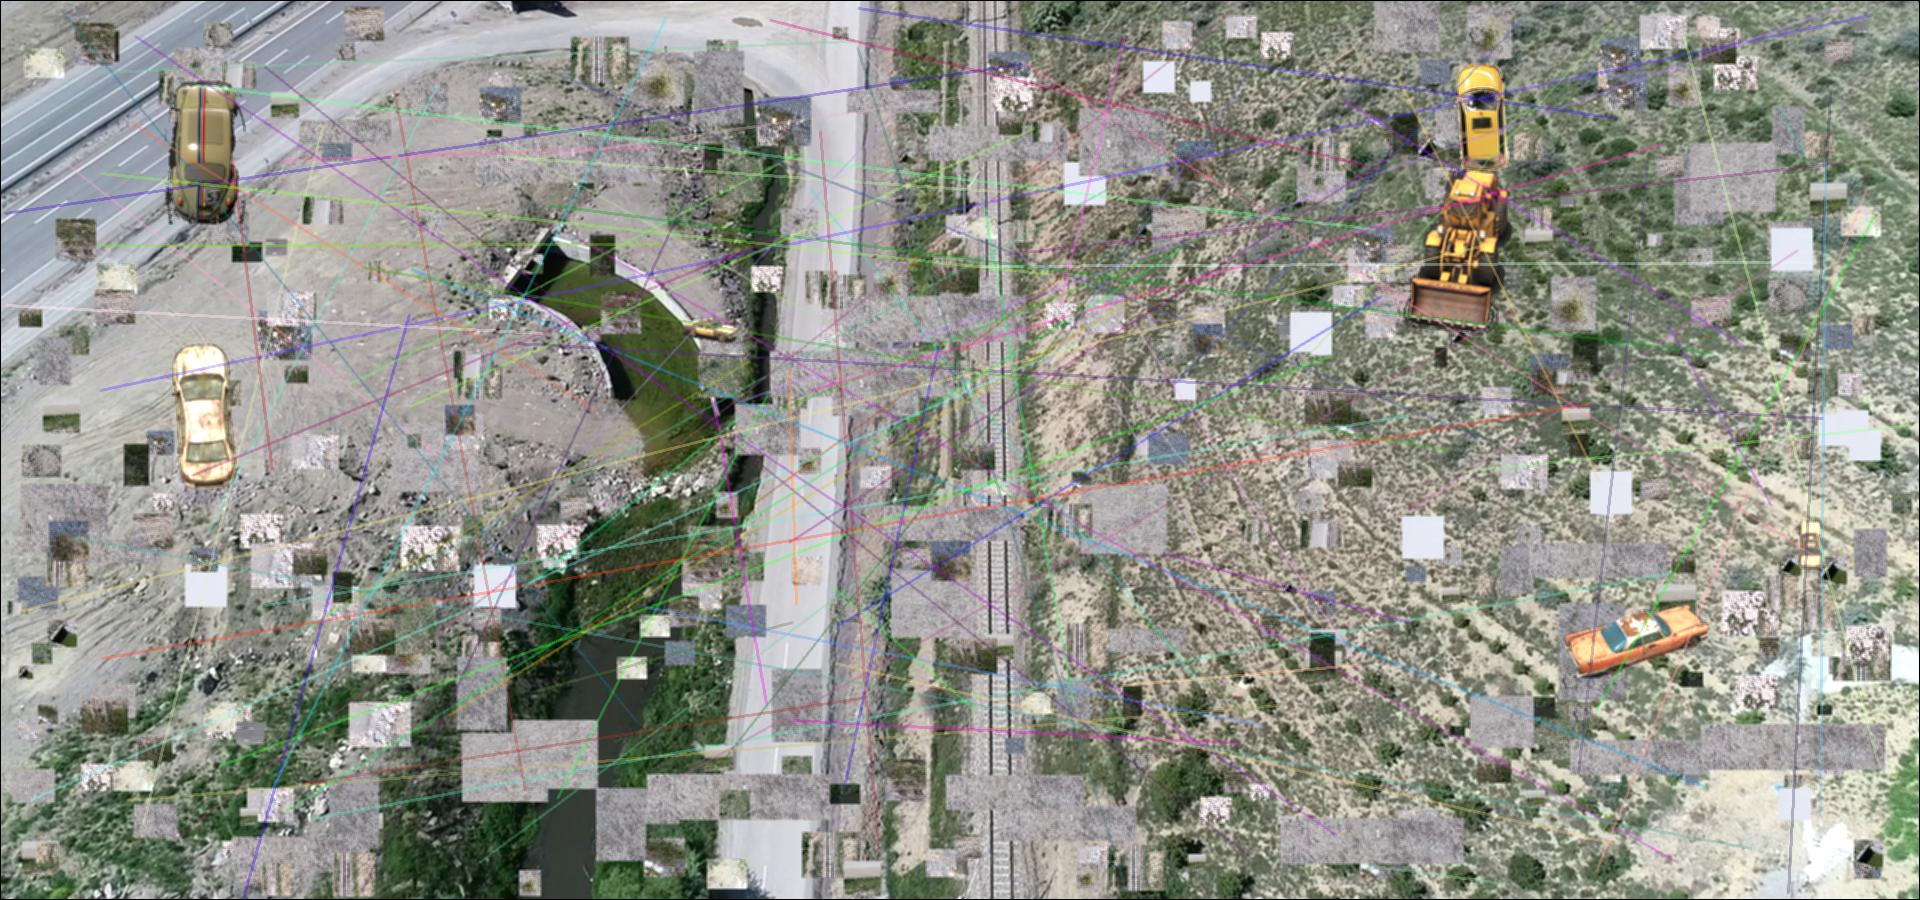arac: (1389, 156, 1518, 338), (1555, 602, 1718, 678), (164, 81, 245, 224), (170, 342, 238, 490), (1453, 59, 1516, 174), (682, 317, 740, 343), (1798, 520, 1824, 572)
